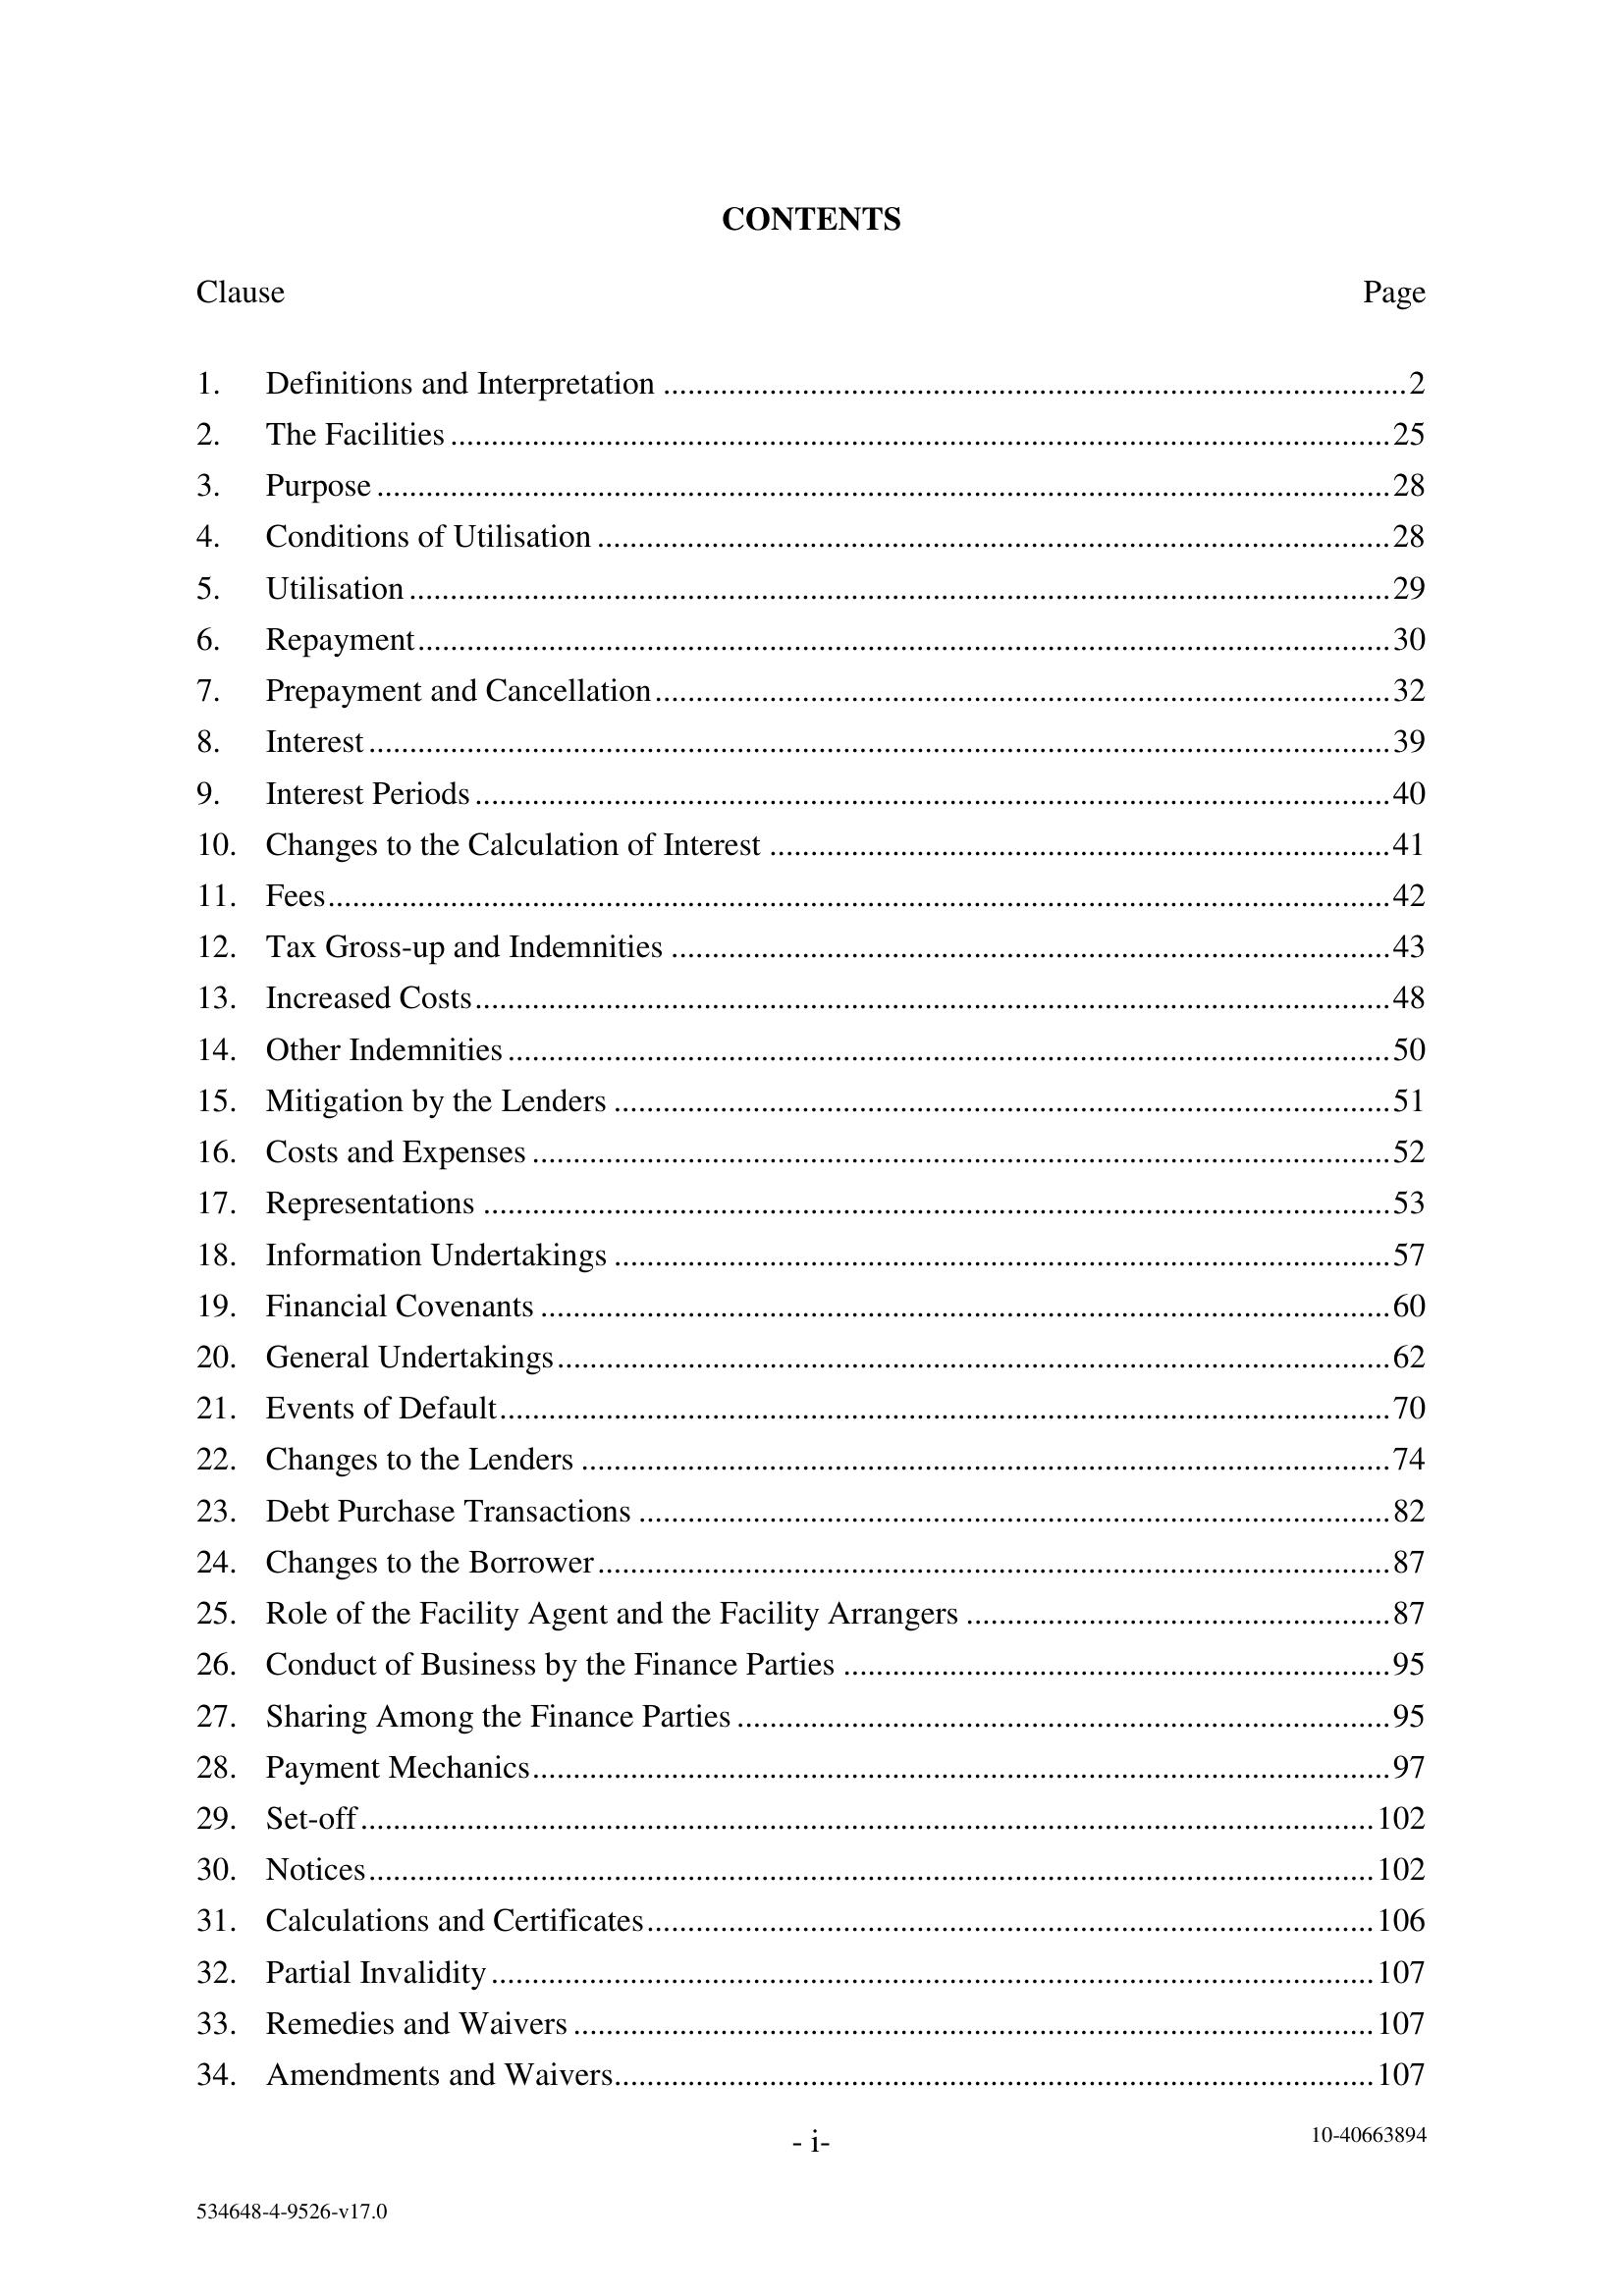pageno: (732, 2101, 906, 2198)
tag: (90, 2166, 494, 2264), (1217, 2099, 1535, 2180)
